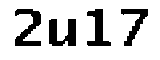1: (83, 6, 113, 48)
2: (13, 6, 45, 49)
7: (116, 5, 152, 53)
u: (46, 15, 79, 49)
